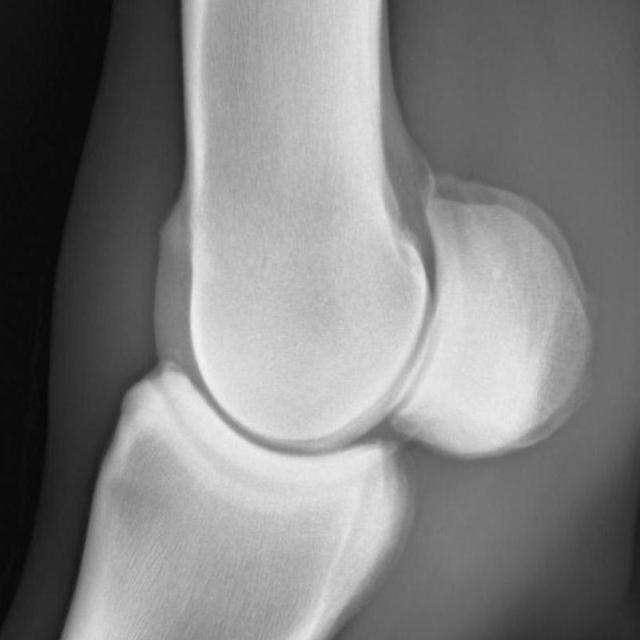bone remodeling: (510, 396, 588, 460), (574, 279, 625, 368)
